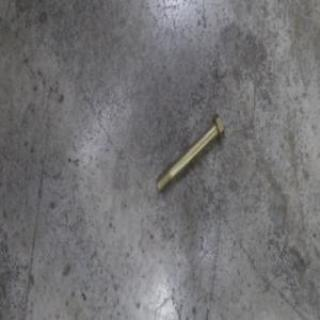Bolttrack_idkeyframe: (154, 110, 225, 194)
